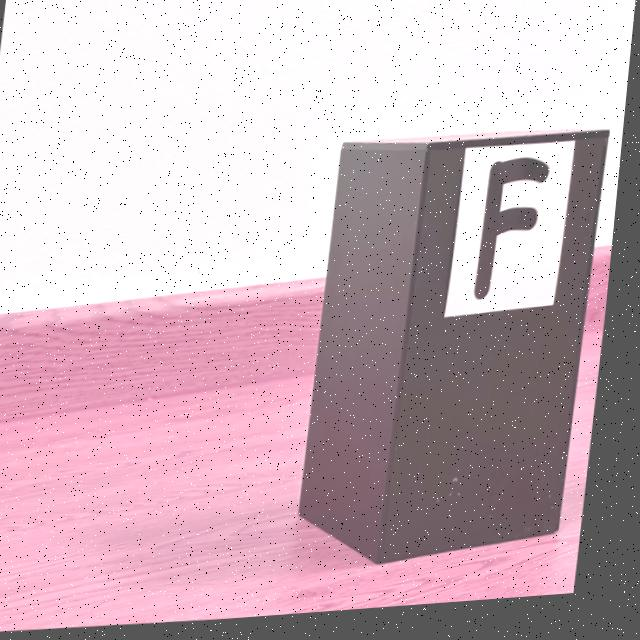F: (480, 165, 554, 307)
